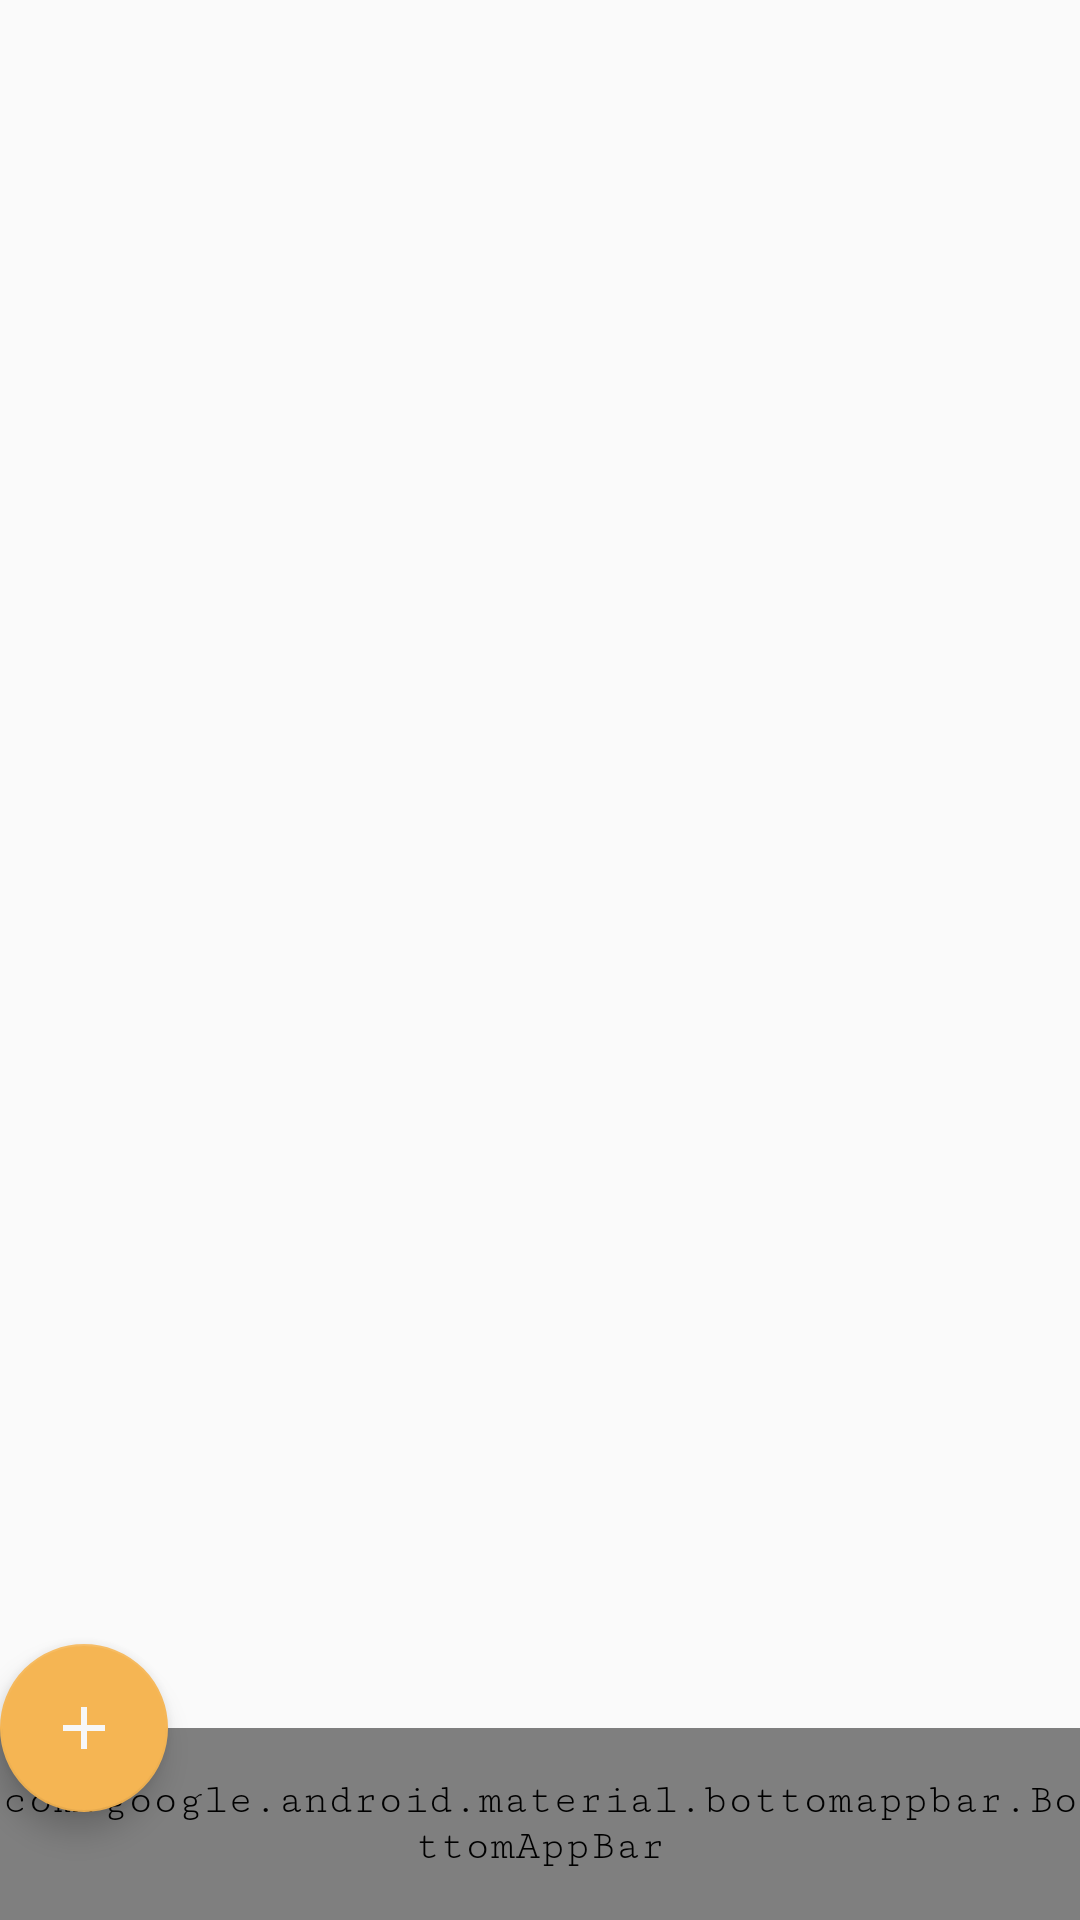

Point at icon controls on the screen. Image size 1080 × 1920, points as [x,y].
add: [84,1728]
